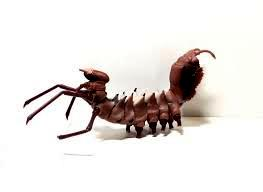Lobster Moth: (49, 44, 215, 139)
